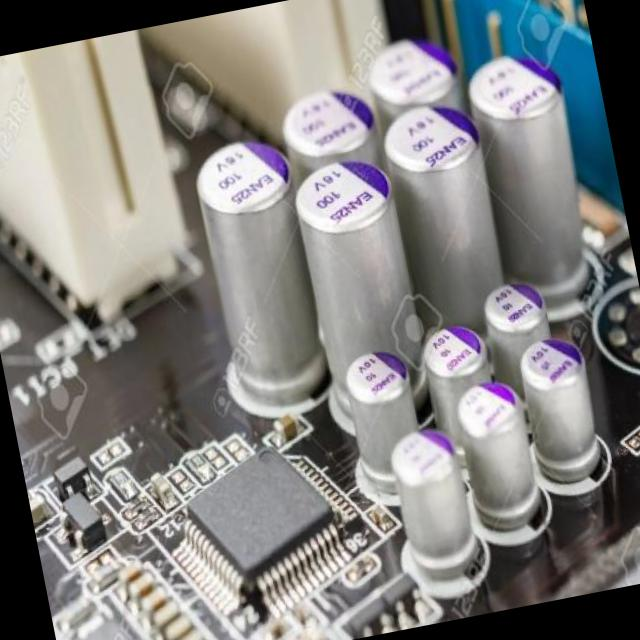IC: (170, 437, 367, 622)
capacitor: (186, 132, 335, 414), (461, 20, 603, 310), (288, 160, 432, 386), (378, 90, 514, 309), (448, 373, 554, 548), (381, 425, 484, 591), (514, 334, 610, 494), (336, 342, 426, 488), (272, 69, 382, 166), (358, 13, 462, 114), (418, 316, 496, 404), (480, 266, 556, 349), (148, 465, 180, 516), (272, 408, 306, 444), (116, 558, 150, 590), (162, 609, 196, 640), (136, 582, 168, 611), (126, 566, 154, 596), (151, 596, 181, 624), (175, 624, 212, 640)
transistor: (54, 486, 118, 563), (46, 450, 97, 500)
